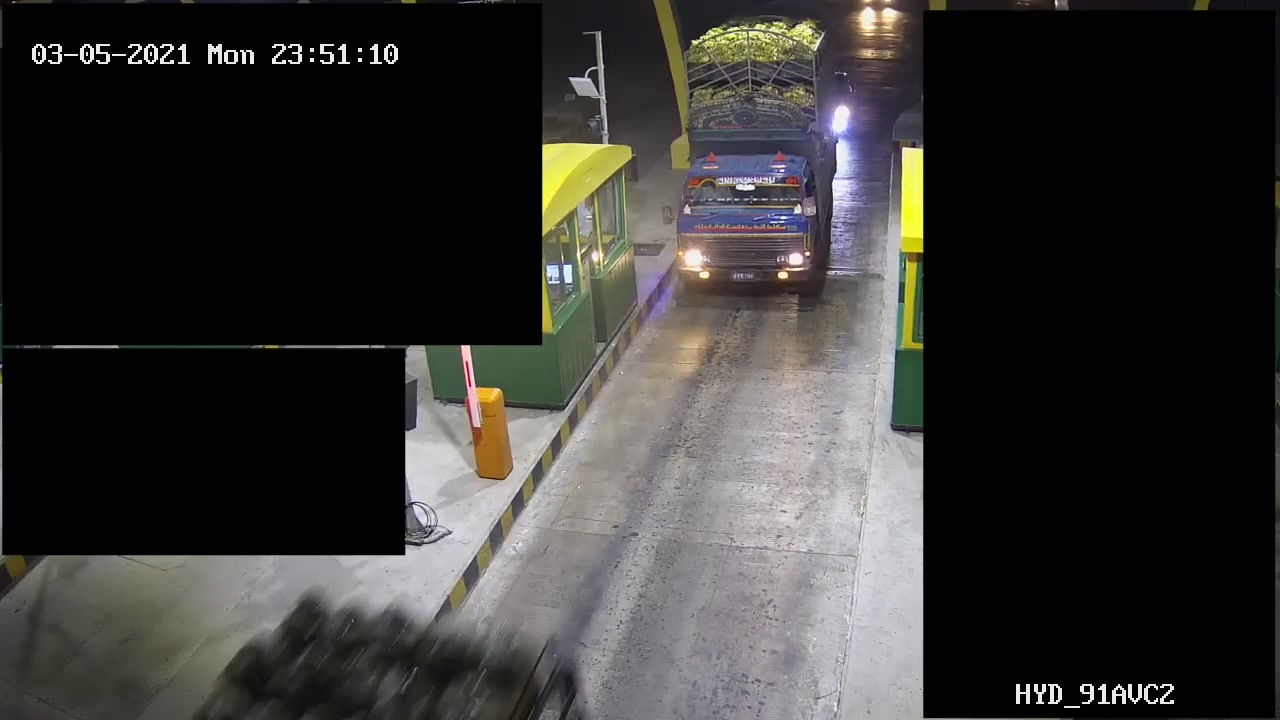F3: (671, 15, 836, 311)
